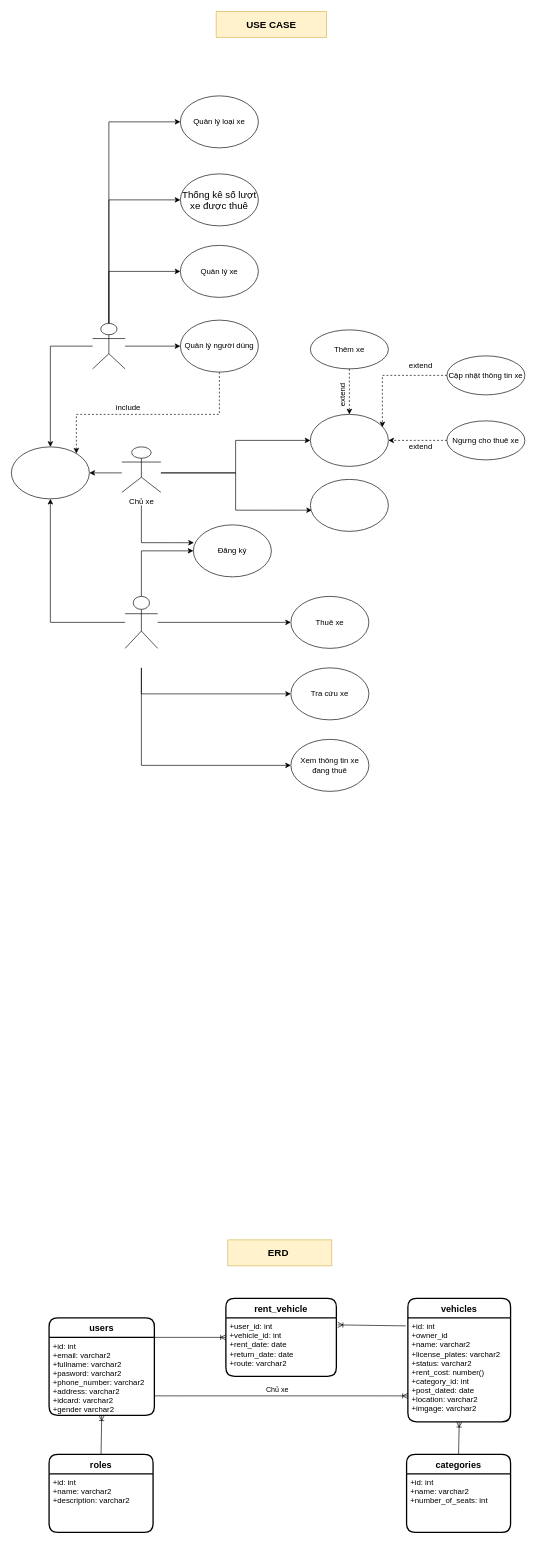
Some shapes in this 536 by 1544 pixel diagram are drawn without their labels. The shapes that lost their labels are listed below. From the top down, each one's centre as x and y in pixels, then its label:
At pixel 108 346: "Quản trị".
At pixel 349 440: "Cho thuê xe".
At pixel 50 472: "Đăng nhập".
At pixel 349 505: "Tra cứu khách thuê xe".
At pixel 141 622: "Khách thuê".
